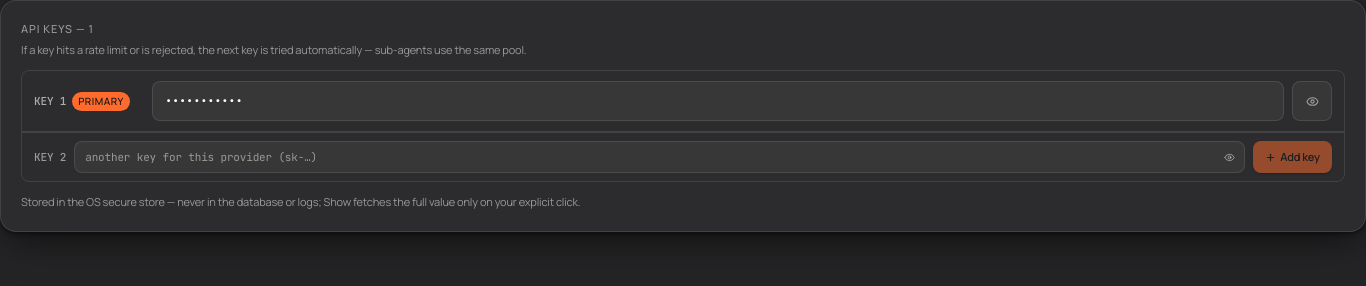
Test: ProviderKeysCard — the R47 TAURI FIX (R92-D3) › a KEY-FILE save (the Linux fallback) succeeds and renders its disclosure note — never the plain green line, never an error
Replace the text in the field with test id "stored-key-masked" with "sk-or-v1-linux" at {"x": 718, "y": 101}, box [152,81,1284,121]
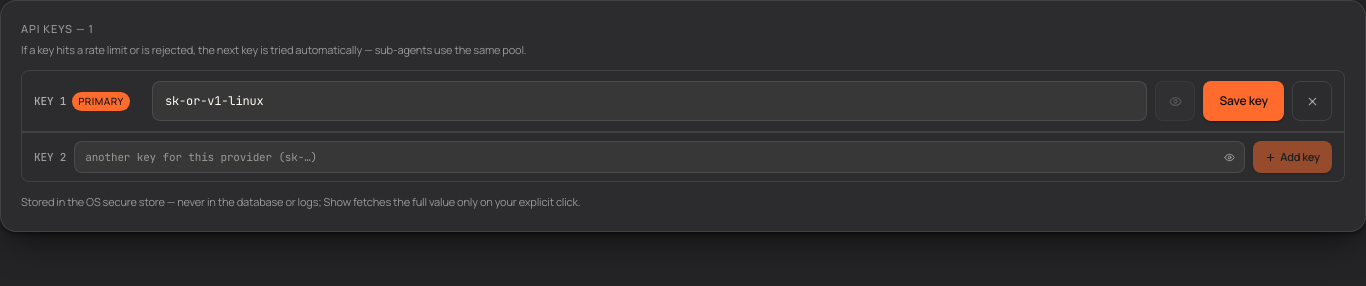
Click the button with test id "save-key-button".
click(1244, 101)  # box [1203,81,1284,121]
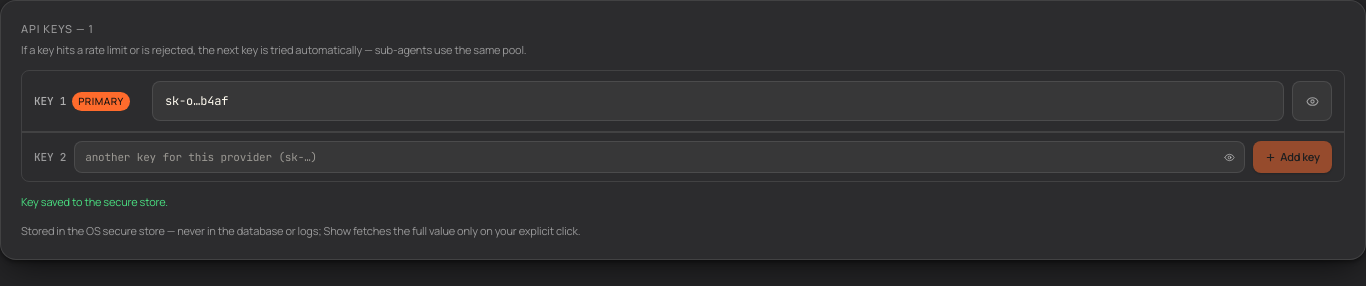
Expected: the text "Key saved to the secure store." is shown, [21,194,168,209]
Replace the text in the field with test id "stored-key-masked" with "sk-or-v1-linux-2" at {"x": 718, "y": 101}, box [152,81,1284,121]
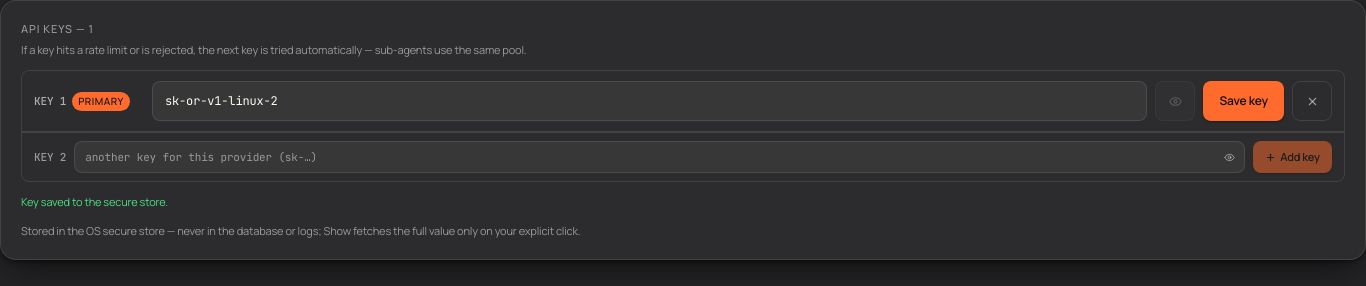
Click the button with test id "save-key-button".
click(1244, 101)  # box [1203,81,1284,121]
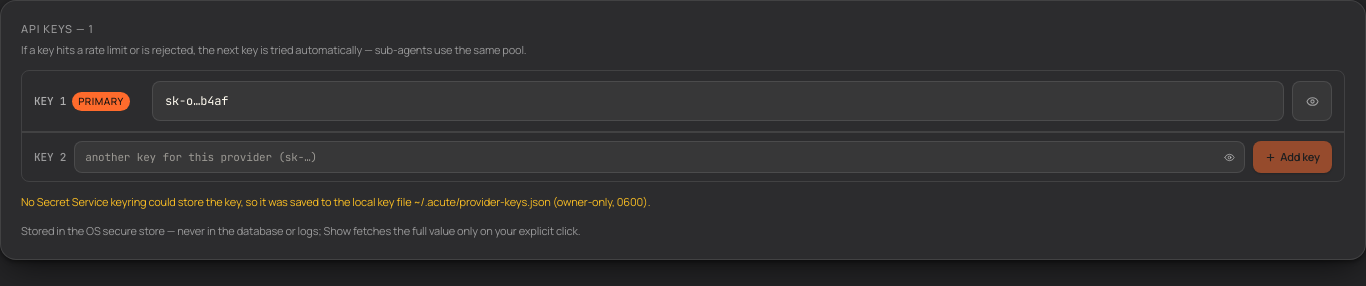
Expected: the text with test id "key-store-disclosure" shows "provider-keys.json", [21,194,650,209]
Expected: the text "Key saved to the secure store." is gone
